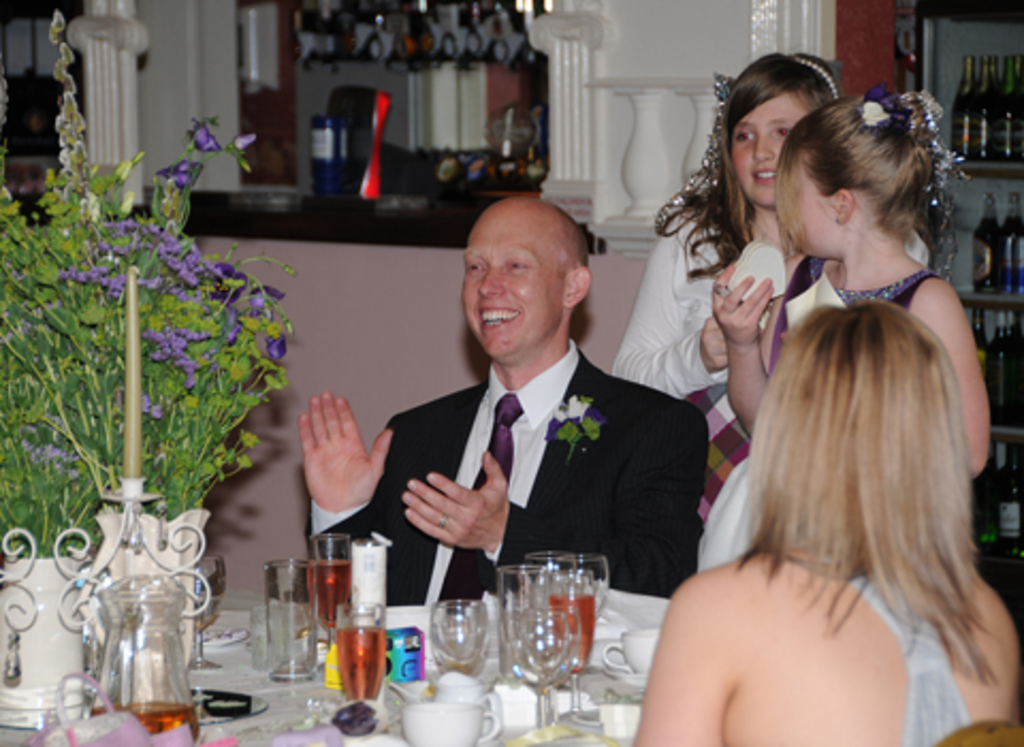Person: (714, 79, 993, 479), (611, 49, 928, 381)
